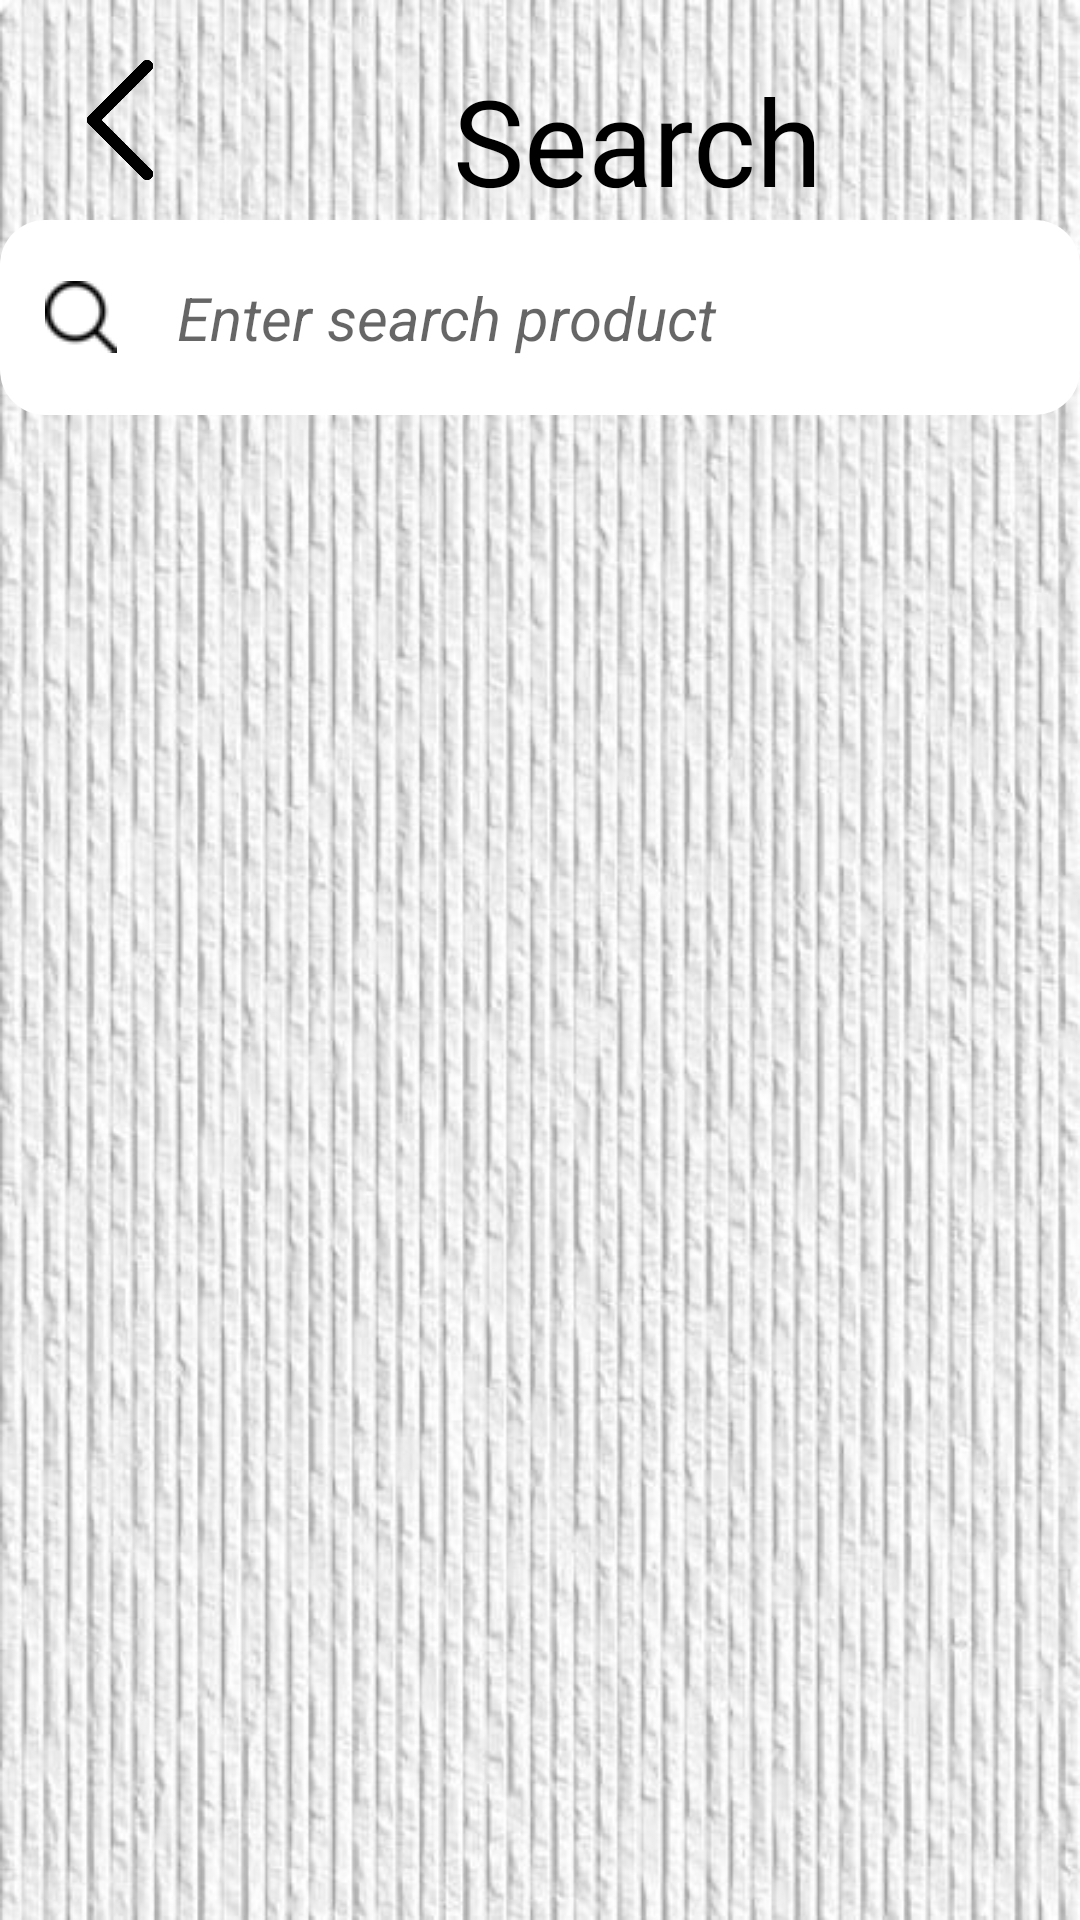

Point at icon controls on the screen. Image size 1080*1920, points as (x,y).
back: (123,120)
